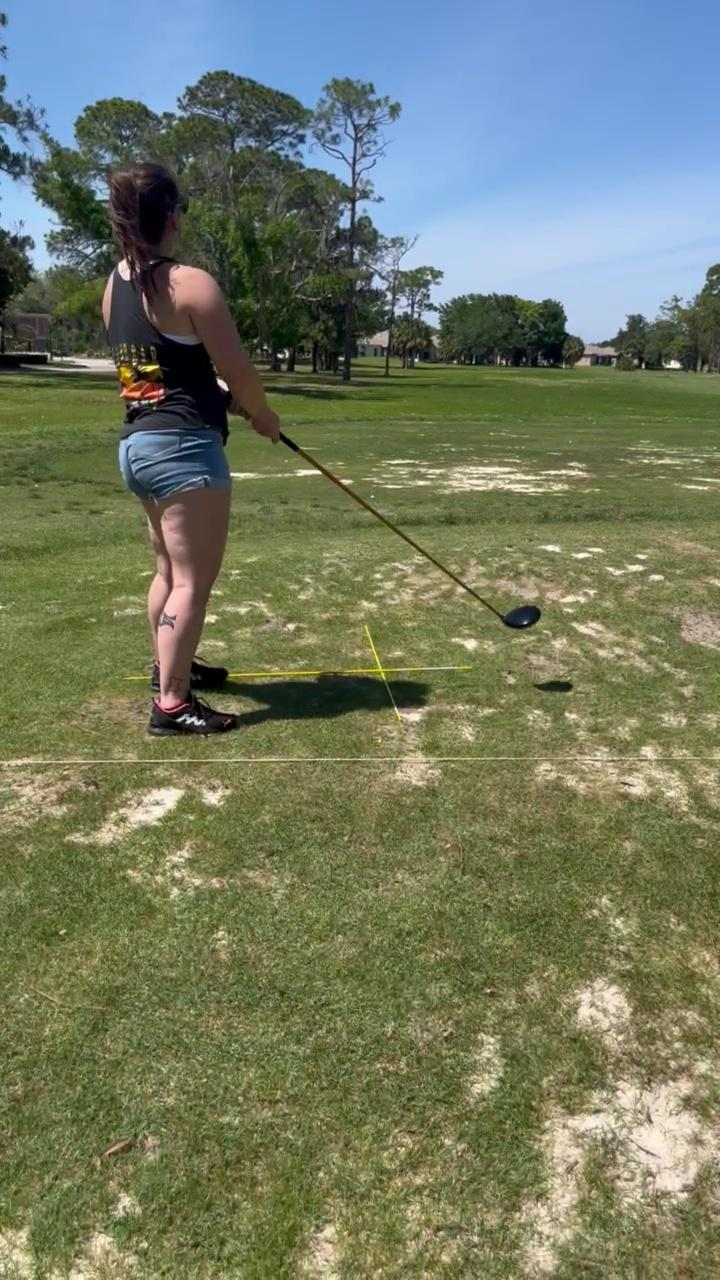ClubHead: (495, 590, 545, 650)
